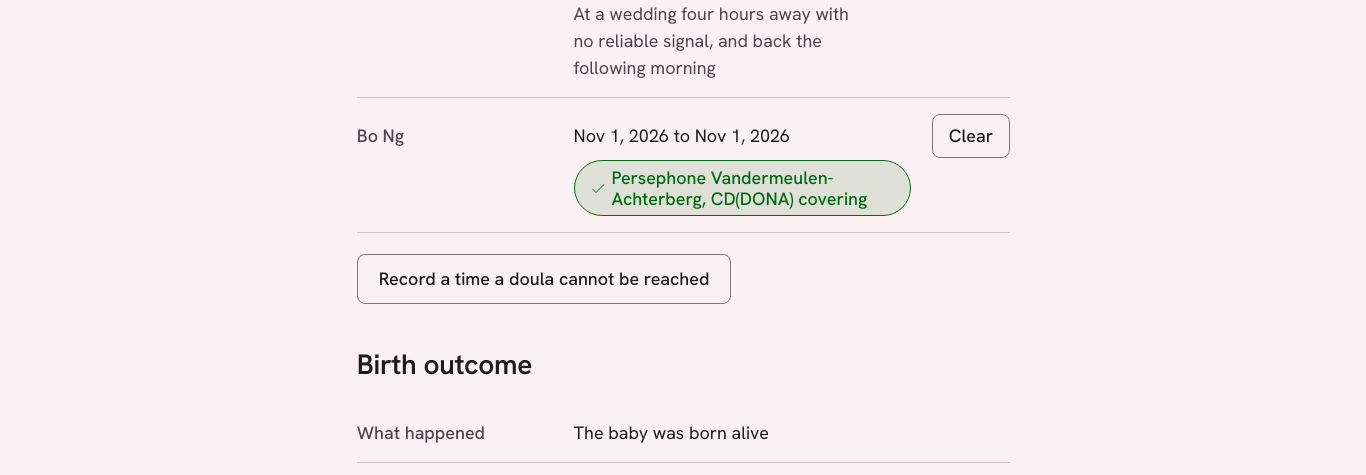
Test: the on-call section on a birth (#1093) › From and Until › refuses an empty Until alone, with the Doula and From answered
(page scrolled)
Click the button "Record a time a doula cannot be reached": (544, 279) left=357, top=254, right=731, bottom=304
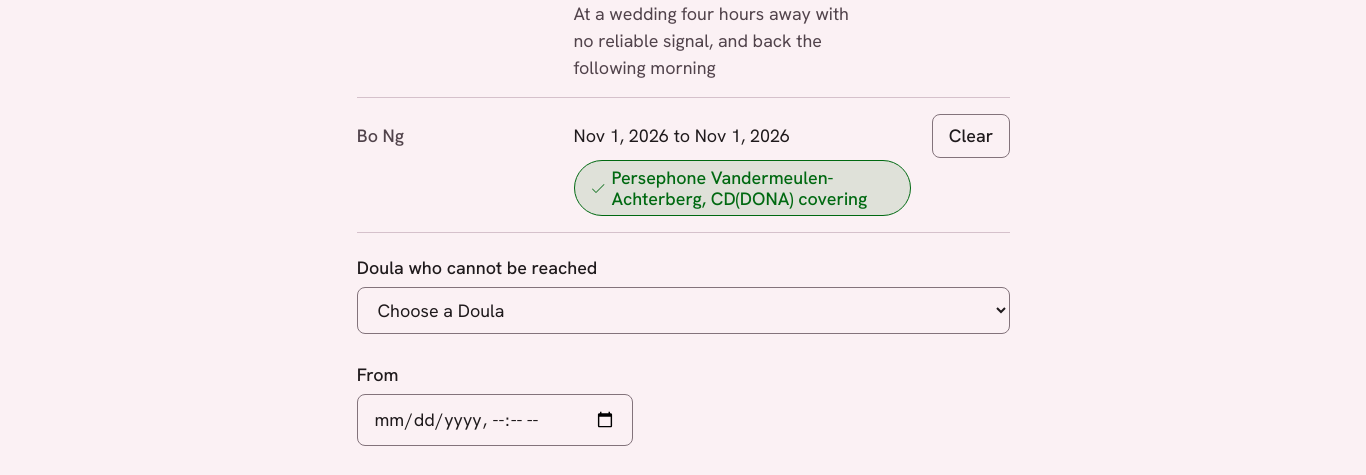
Select "Bo Ng" in the dropdown labelled "Doula who cannot be reached": (683, 310) left=357, top=286, right=1010, bottom=334
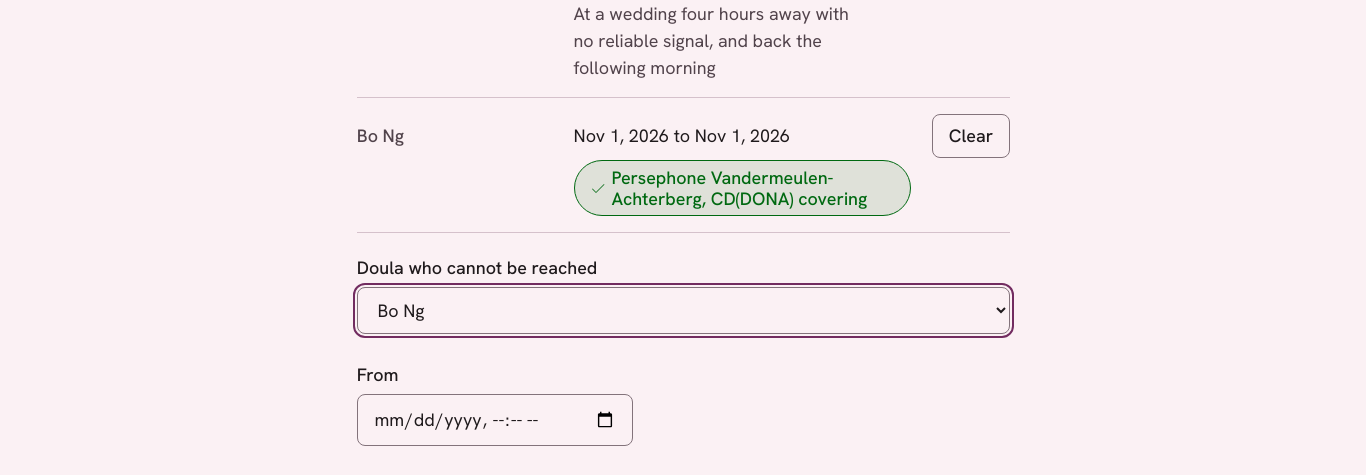
In the field labelled "From": (495, 420) left=357, top=394, right=633, bottom=446, type "2026-10-20T22:00"
(page scrolled)
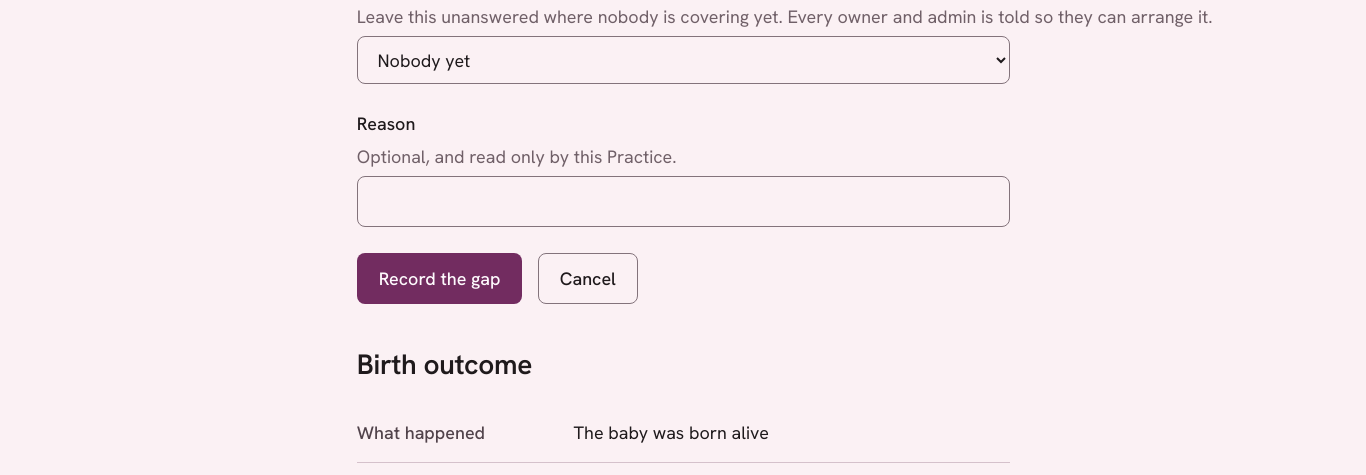
Click the button "Record the gap": (440, 278) left=357, top=253, right=522, bottom=304
(page scrolled)
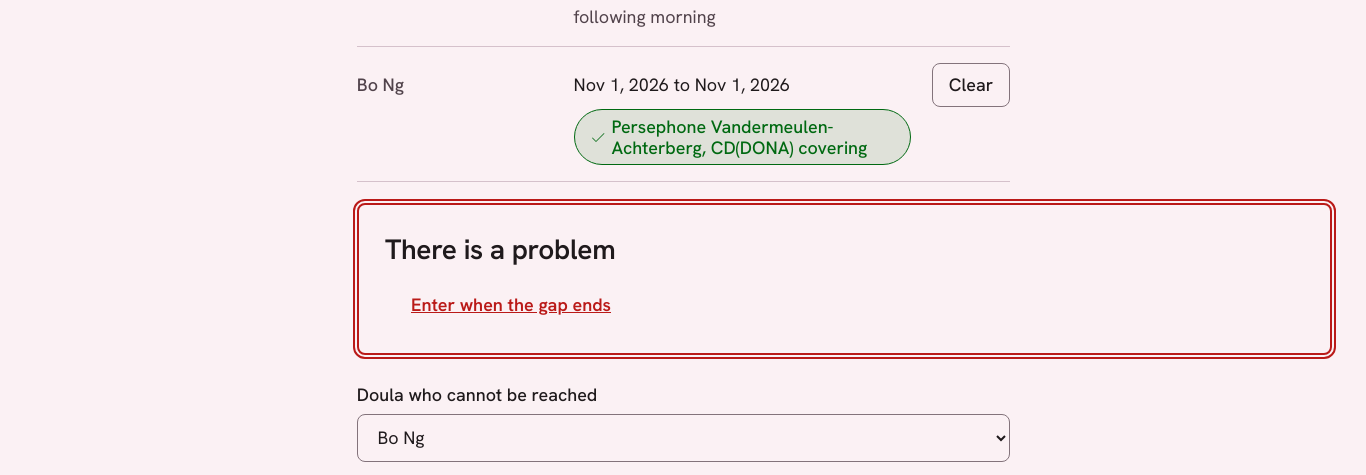
Result: the link "Enter when the gap ends" is shown at left=411, top=293, right=611, bottom=316
